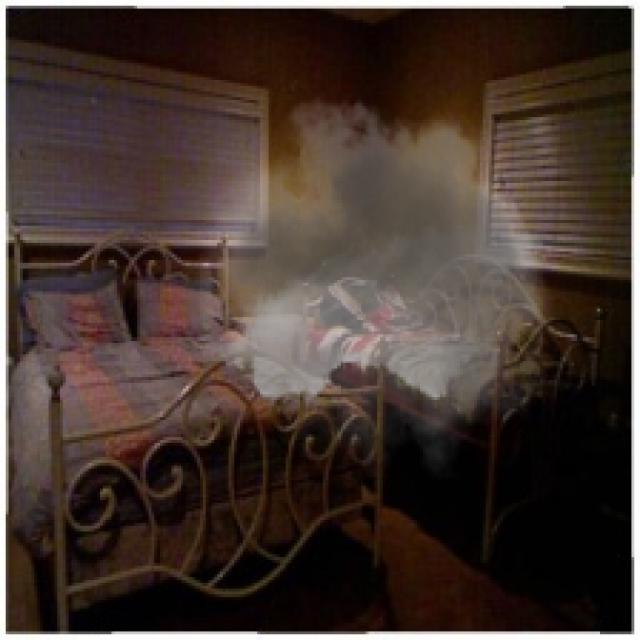smoke: (197, 80, 566, 480)
